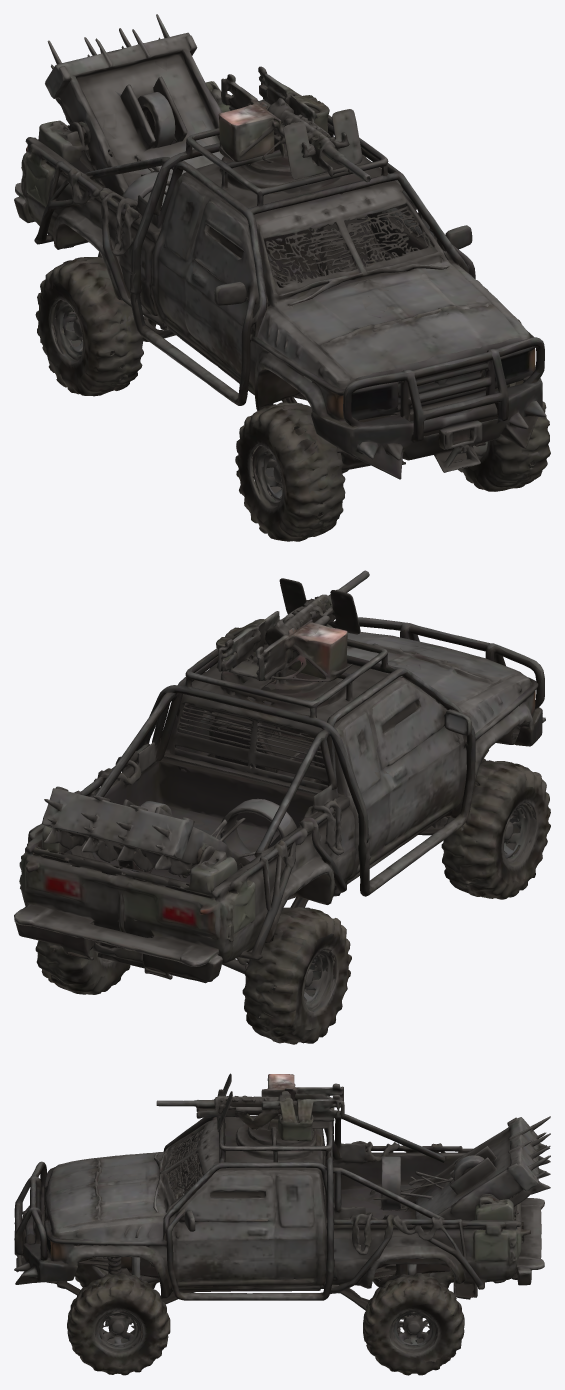
File: DeathRaceJeep.glb
3 views of the same model, one above another, from view 1: azimuth 30°, elevation 25°; view 2: azimuth 150°, elevation 25°; view 3: azimuth 270°, elevation 25° (orthographic). The views are drawn at different scales.
Visible parts, largest first — view 1: Chassis_Main, Turret_Roof_Gun, Wheel_FL, Wheel_RL; view 2: Chassis_Main, Turret_Roof_Gun, Wheel_FL, Wheel_RL; view 3: Chassis_Main, Turret_Roof_Gun, Wheel_FR, Wheel_RR.
Part boxes in pixels (bbox=[...]): Chassis_Main: bbox=[14, 14, 550, 541]; Turret_Roof_Gun: bbox=[186, 66, 388, 196]; Wheel_FL: bbox=[237, 426, 326, 523]; Wheel_RL: bbox=[36, 281, 122, 366]; Chassis_Main: bbox=[14, 570, 550, 1044]; Turret_Roof_Gun: bbox=[185, 578, 387, 709]; Wheel_FL: bbox=[463, 787, 545, 884]; Wheel_RL: bbox=[245, 943, 333, 1029]; Chassis_Main: bbox=[14, 1100, 550, 1375]; Turret_Roof_Gun: bbox=[196, 1073, 344, 1152]; Wheel_FR: bbox=[85, 1297, 159, 1367]; Wheel_RR: bbox=[393, 1303, 458, 1362].
Bounding box in the file's own units: 0.421 × 0.5114 × 1.
1 material, 1 textured.
